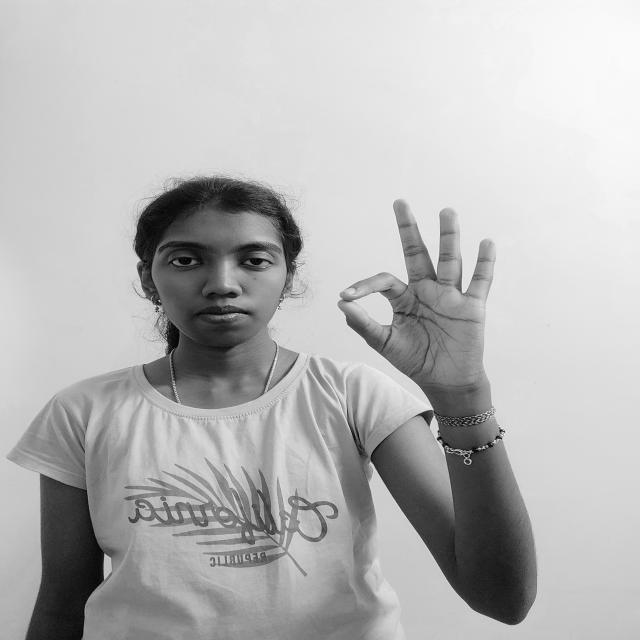Superb: (327, 192, 510, 403)
